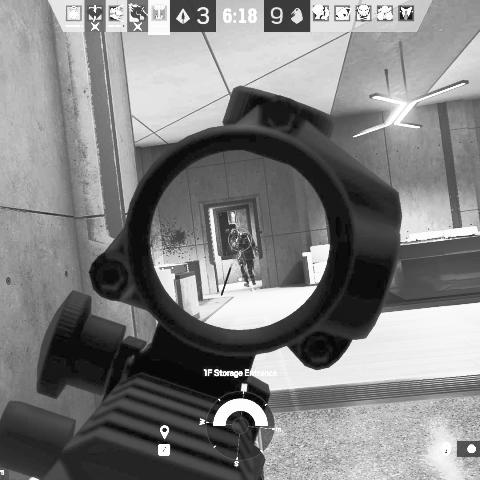Character: (228, 228, 258, 288)
Head: (231, 228, 239, 238)
